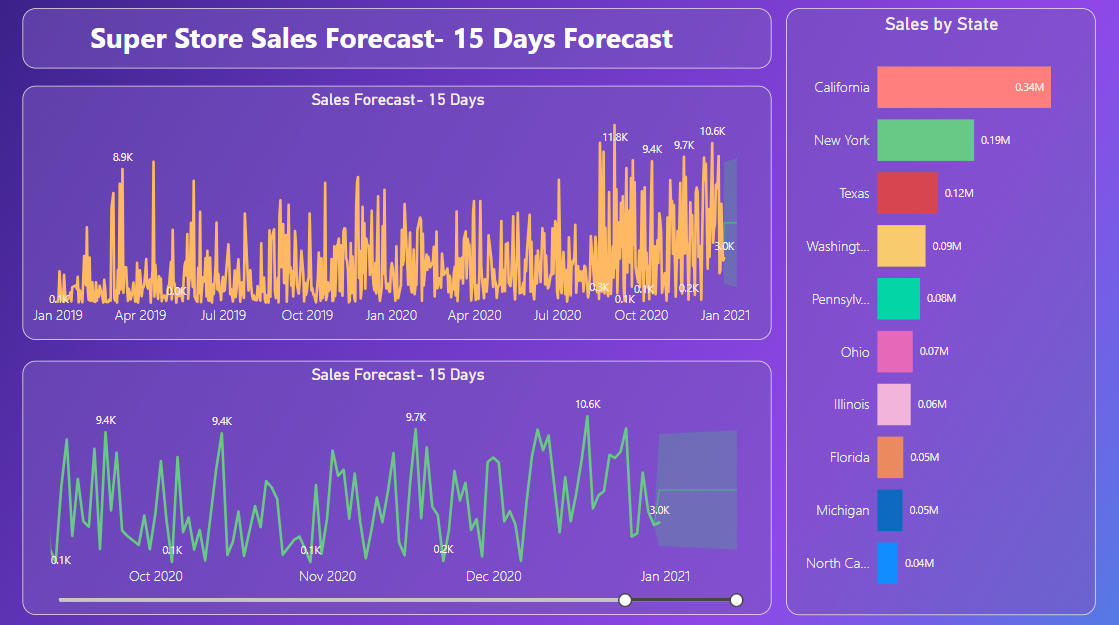

What the dashboard file says about the page in this screenshot:
{"tool":"powerbi","page":{"name":"Super Store Sales Forecast- 15 Days","canvas":[1280,720],"ordinal":1},"visuals":[{"type":"lineChart","title":"Sales Forecast- 15 Days","fields":{"Y":["Sum(SuperStore_Sales_Dataset.Sales)"],"Category":["SuperStore_Sales_Dataset.Order Date"]},"box":[26.2,101.2,856.2,290],"z":0},{"type":"lineChart","title":"Sales Forecast- 15 Days","fields":{"Y":["Sum(SuperStore_Sales_Dataset.Sales)"],"Category":["SuperStore_Sales_Dataset.Order Date"]},"box":[25,416.2,856.2,290],"z":1000},{"type":"clusteredBarChart","title":"Sales by State","fields":{"Y":["Sum(SuperStore_Sales_Dataset.Sales)"],"Category":["SuperStore_Sales_Dataset.State"]},"box":[898.8,12.5,353.8,693.8],"z":2000},{"type":"textbox","box":[25,12.5,856.2,68.8],"z":3000}]}

Visuals, with their boxes in screenshot pixels (x1, y1, x2, y2), scaled from the page's 1280x720 canvas onto the 1119x625 screenshot:
"Sales Forecast- 15 Days" lineChart: 23,88,771,340
"Sales Forecast- 15 Days" lineChart: 22,361,770,613
"Sales by State" clusteredBarChart: 786,11,1095,613
textbox: 22,11,770,71
